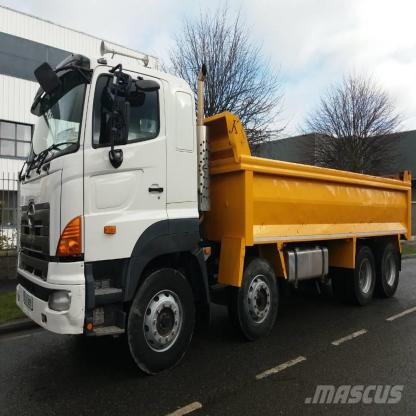dump_truck: (21, 47, 411, 383)
